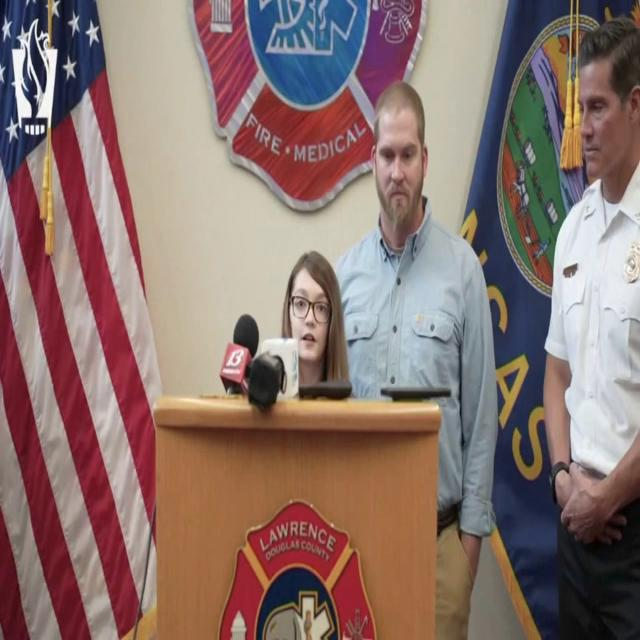adult: (338, 80, 490, 638), (521, 12, 640, 640), (276, 250, 351, 392)
